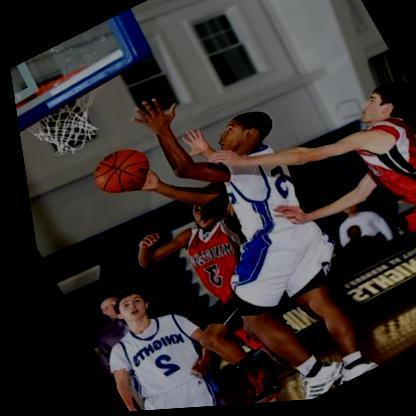basketball: (77, 140, 154, 205)
